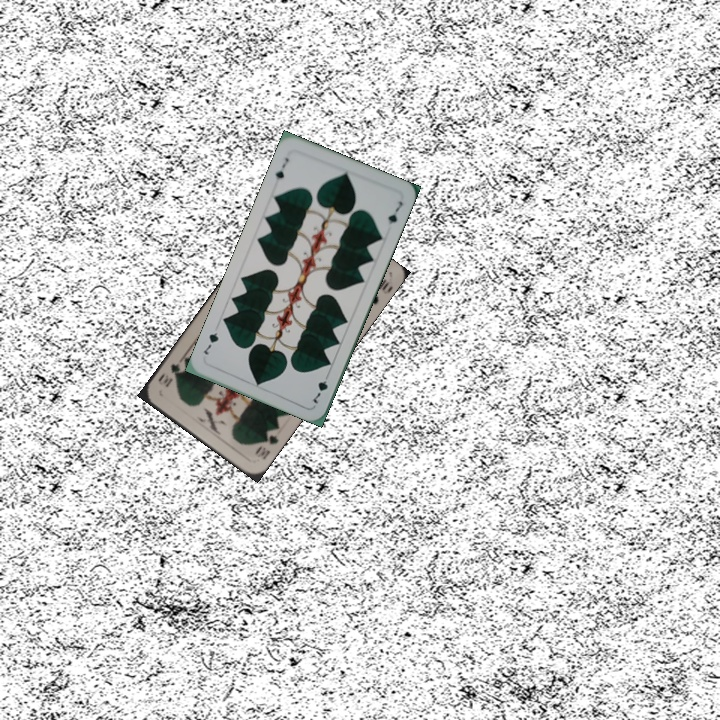G10: (251, 425, 281, 462)
G7: (309, 368, 332, 406), (271, 153, 291, 182)
